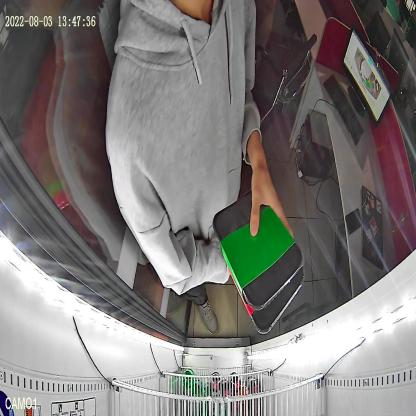green: (212, 188, 305, 312)
red: (227, 267, 306, 335)
